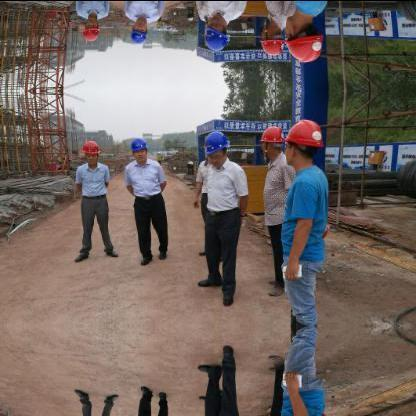Helmet: (281, 118, 323, 164), (281, 14, 323, 60), (202, 127, 228, 162), (202, 15, 228, 50), (258, 124, 282, 158), (258, 21, 282, 53), (78, 15, 100, 40), (78, 138, 100, 162), (127, 17, 148, 42), (127, 136, 148, 160)
